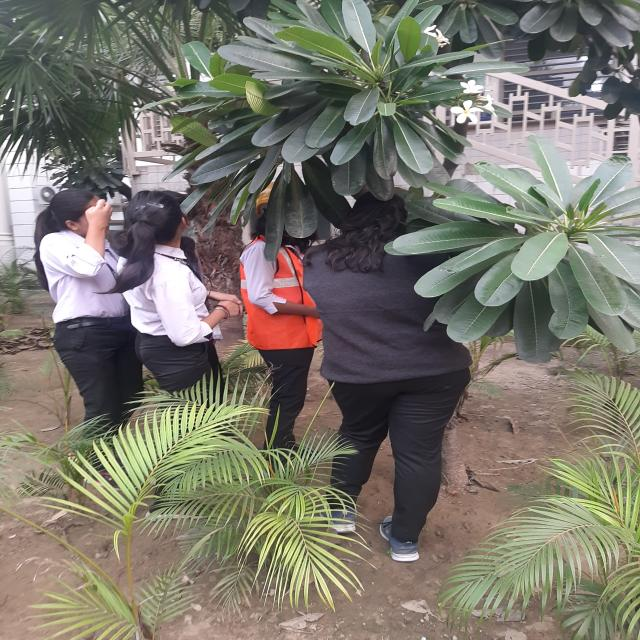safe: (230, 182, 317, 469)
unsafe: (325, 186, 466, 557), (30, 185, 126, 500), (115, 185, 230, 414)
